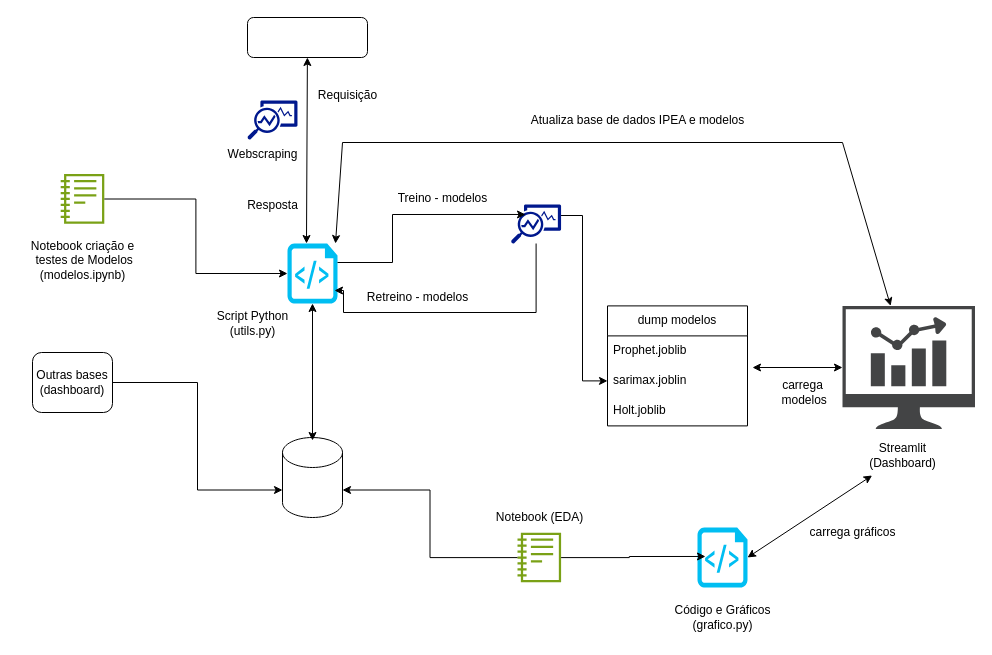
Image size: 992x655. Some labels were removed from this diagram. The shapes that lost their labels are listed below. From the top down, each one's centre as x and y in pixels, then its label:
(x=307, y=37): Site IPEA
(x=312, y=477): Banco de dados (.csv)
